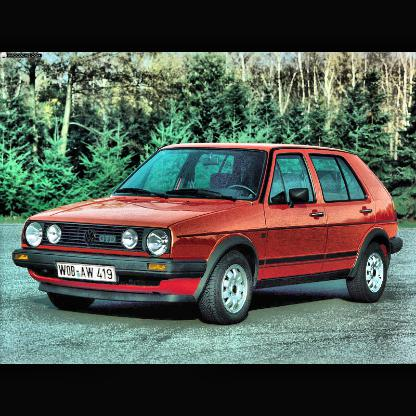Volkswagen Golf Hatchback 1991: (10, 145, 405, 324)
